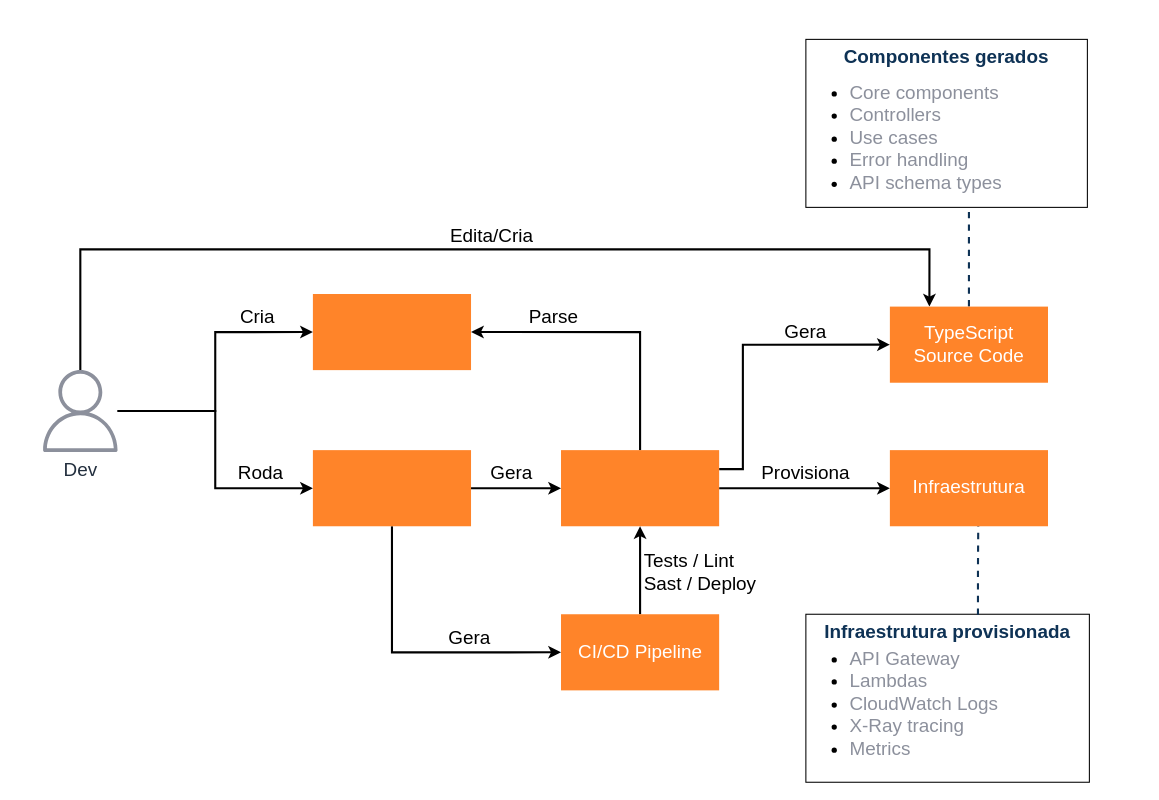
Image size: 1159x800. Some labels were removed from this diagram. The shapes that lost their labels are listed below. From the top down, each one's centre as x and y in pixels, then its label:
At point (391, 331): "OpenAPI specification".
At point (391, 488): "StackSpot CLI".
At point (639, 488): "Projeto CDK".
